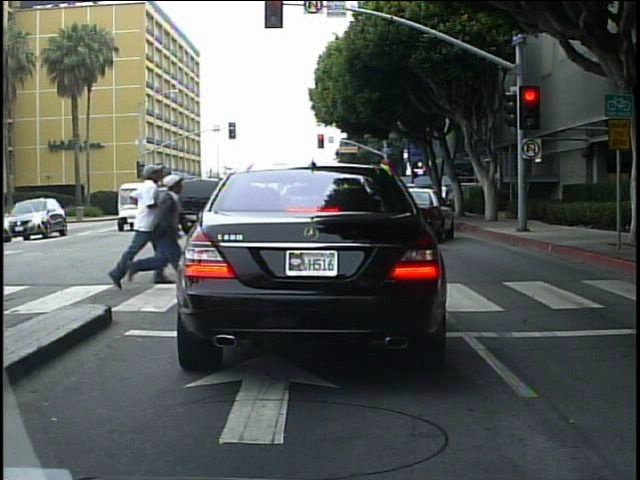person: (117, 170, 181, 296), (97, 164, 154, 296), (437, 179, 453, 214)
